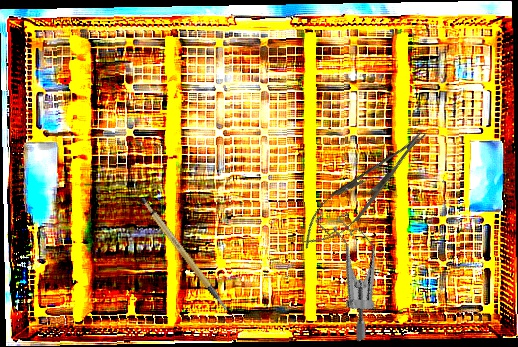Needle Holder: (290, 118, 439, 260)
Scalpel Handle: (137, 187, 229, 322)
Speculum: (278, 197, 418, 343)
